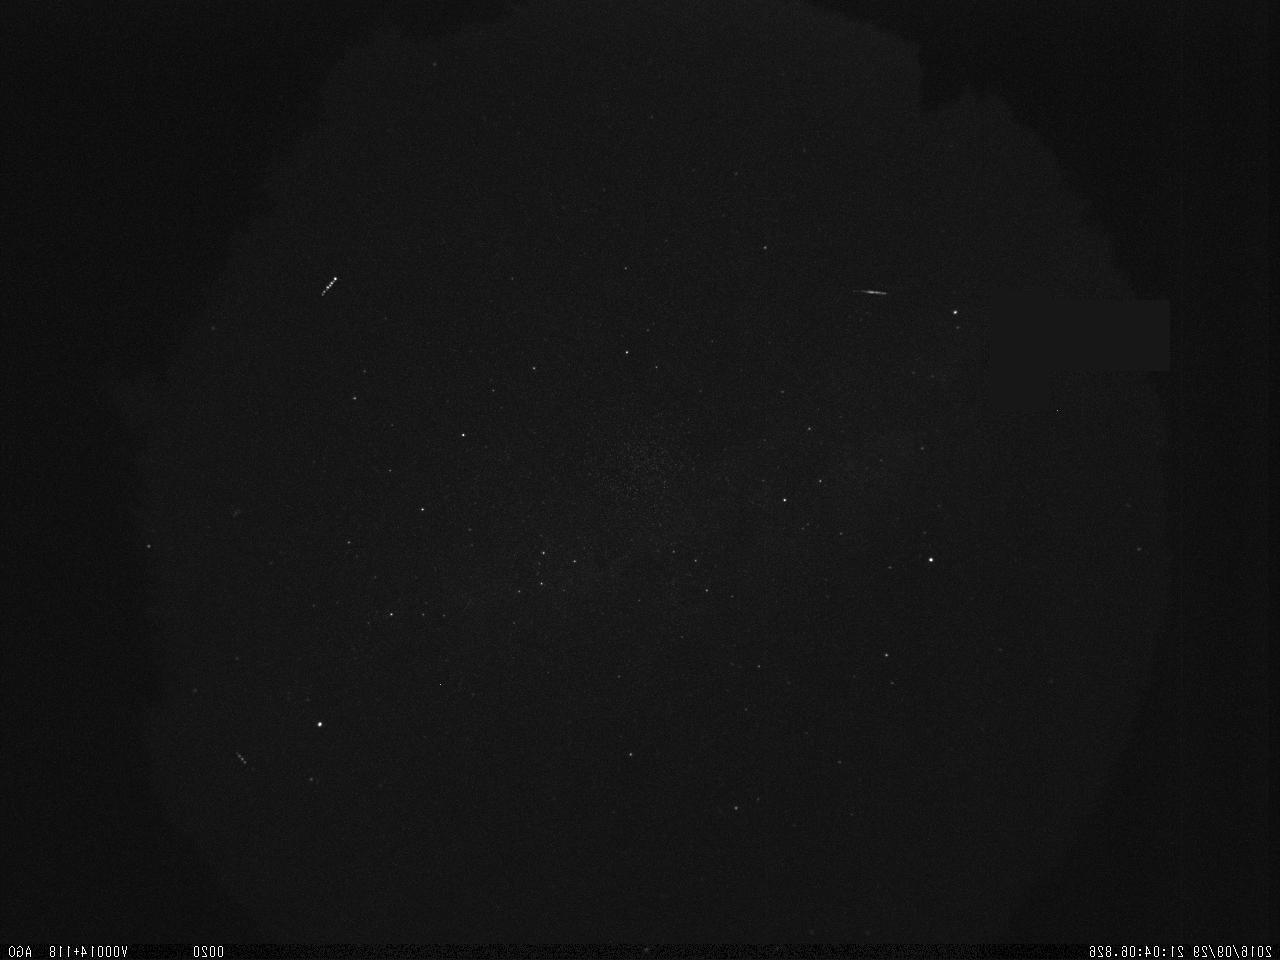meteor: (823, 278, 898, 308)
